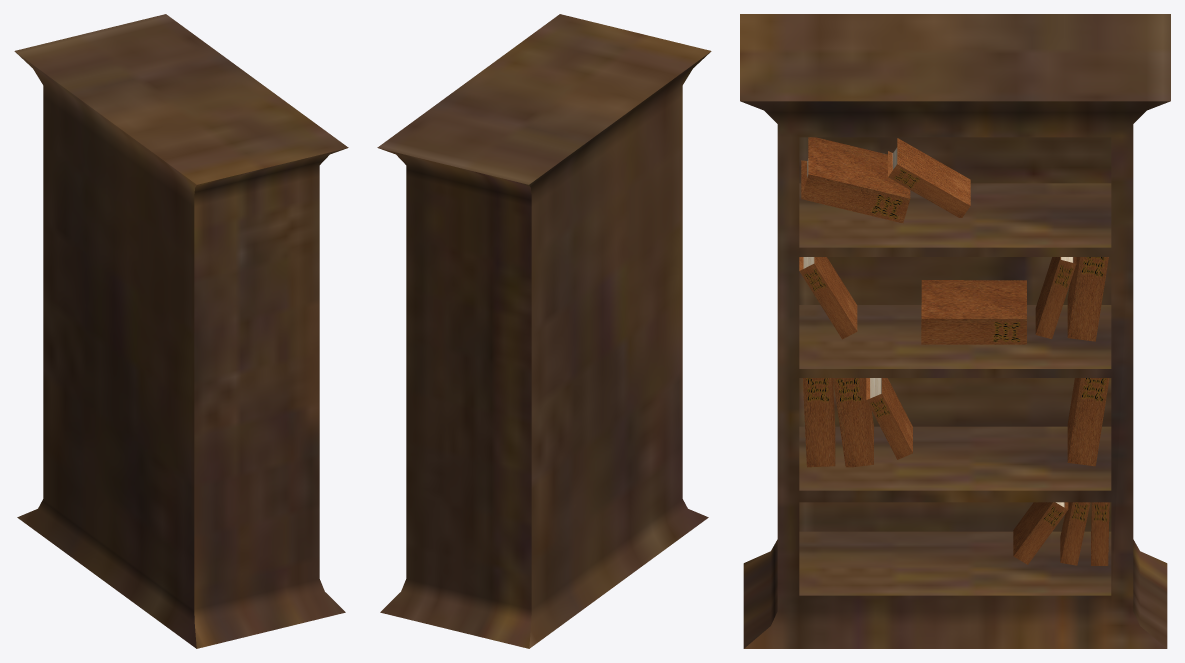
The picture shows the model from 3 angles, left to right: view 1: azimuth 30°, elevation 25°; view 2: azimuth 150°, elevation 25°; view 3: azimuth 270°, elevation 25°; orthographic projection. The views are drawn at different scales.
Parts seen in each view (by area): view 1: bookcase; view 2: bookcase; view 3: bookcase, book3 (×3), book2 (×4), book4, book1, book, book5, book7, book6.
Boxes of the visible parts, x1,y1,x2,y2 form: bookcase: (14, 14, 348, 648); bookcase: (377, 14, 711, 648); bookcase: (740, 14, 1170, 648); book3 (×3): (801, 137, 1109, 466); book2 (×4): (866, 138, 1109, 565); book4: (921, 280, 1026, 344); book1: (833, 378, 873, 467); book: (802, 378, 835, 467); book5: (799, 257, 857, 339); book7: (1013, 502, 1068, 564); book6: (1060, 502, 1090, 565).
Size of the model in its own units: 0.752 by 2.2 by 1.57.
2 materials, 2 textured.
